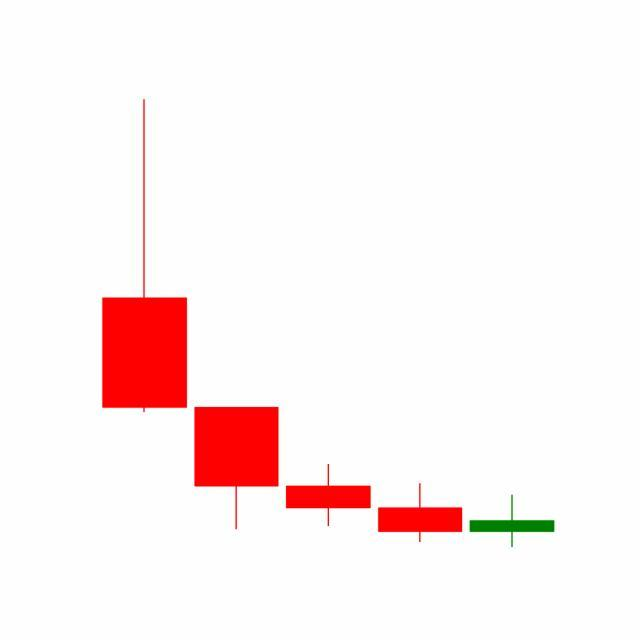Spinning Top: (466, 495, 559, 550)
